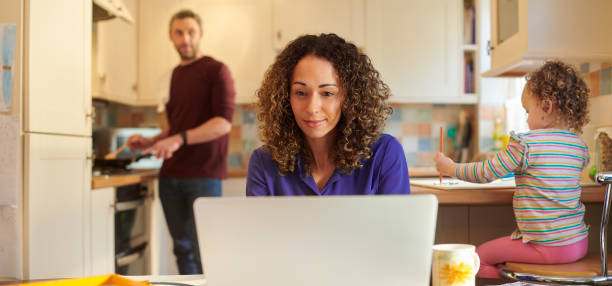without mask: (278, 47, 349, 147), (164, 10, 210, 64), (514, 78, 560, 132)
